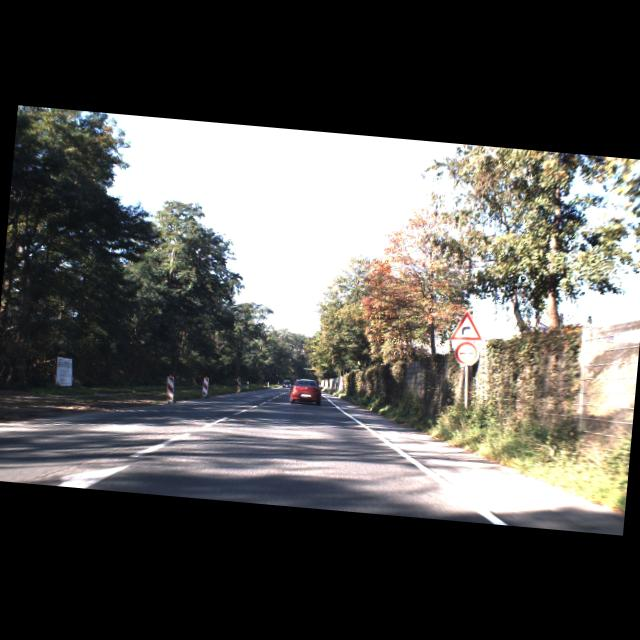danger: (450, 310, 484, 342)
prohibitory: (452, 340, 479, 366)
